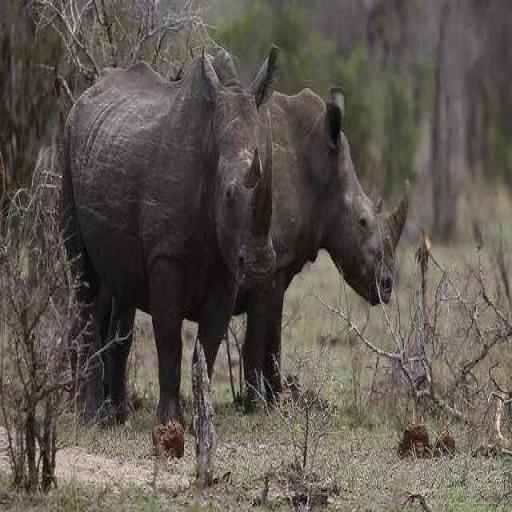Rhino: (59, 40, 282, 435)
